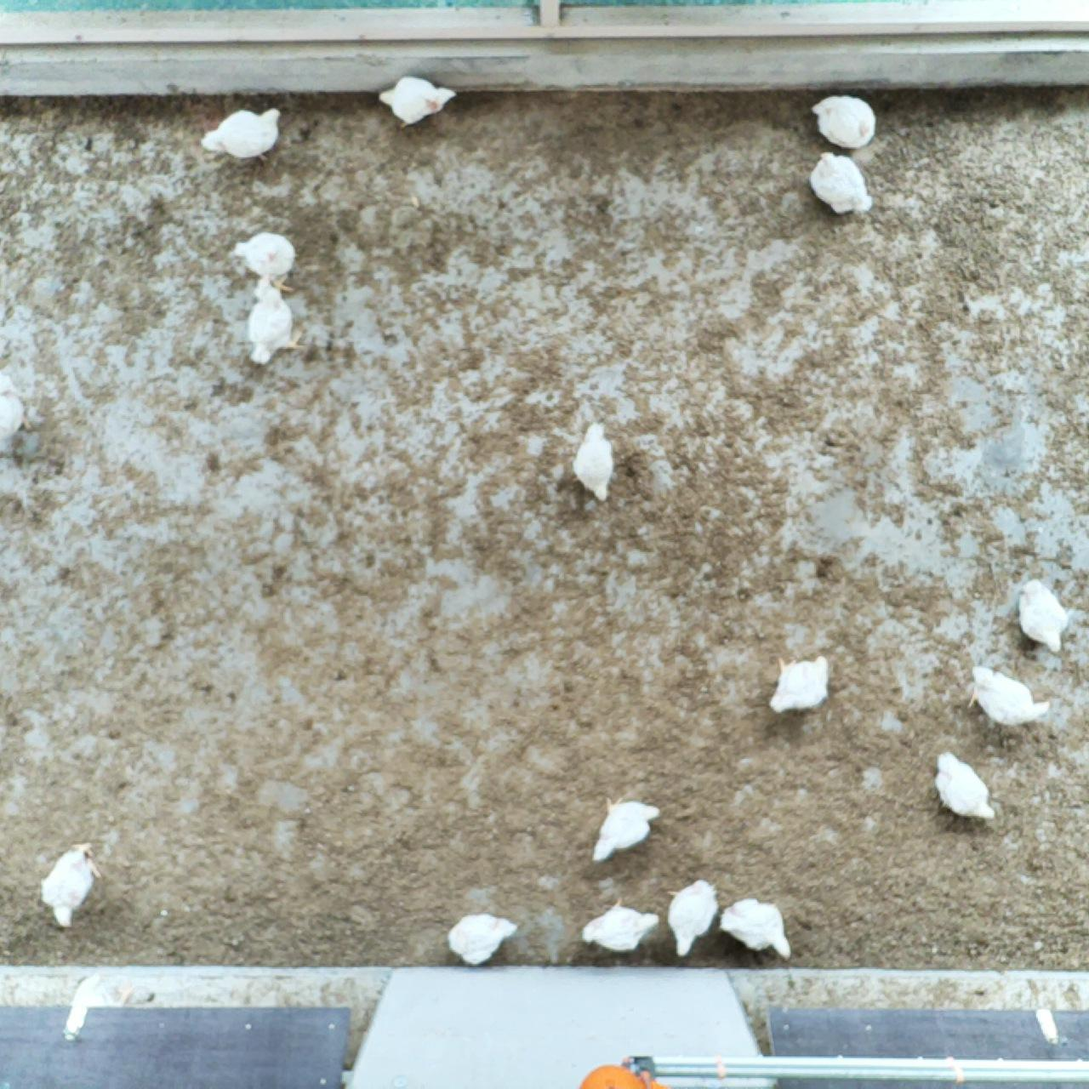chicken: (37, 837, 105, 936), (963, 662, 1055, 732), (716, 890, 796, 965), (195, 104, 288, 168), (586, 790, 664, 865), (930, 746, 1000, 827), (244, 284, 307, 370), (565, 418, 624, 509), (375, 71, 460, 133), (578, 894, 662, 956), (1011, 575, 1073, 658), (664, 874, 722, 959), (441, 908, 520, 970), (807, 144, 873, 217), (767, 649, 833, 718), (231, 227, 301, 292), (806, 92, 882, 151)
